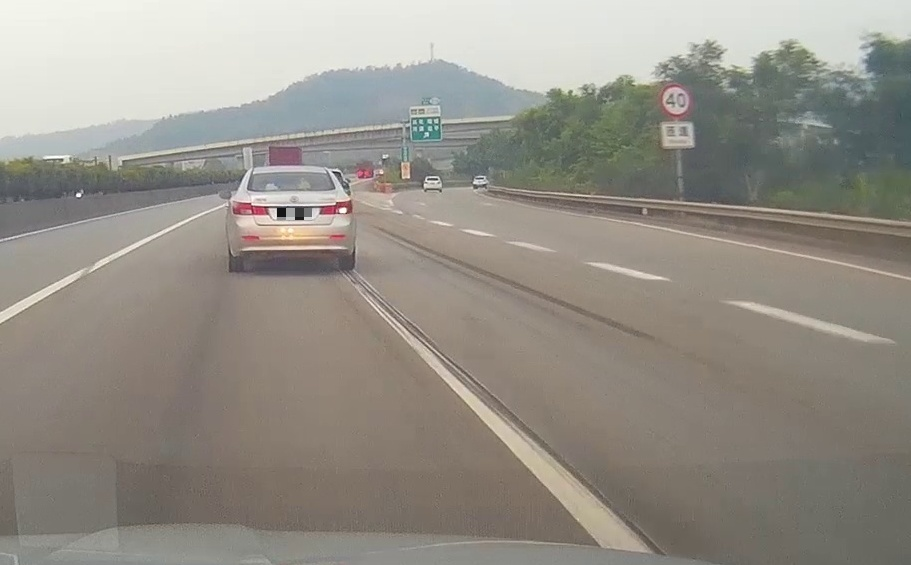L_light: (232, 200, 268, 215)
R_light: (319, 199, 352, 214)
T_light: (284, 171, 298, 173)
day-right: (227, 165, 356, 272)
plate_1: (277, 208, 312, 220)
